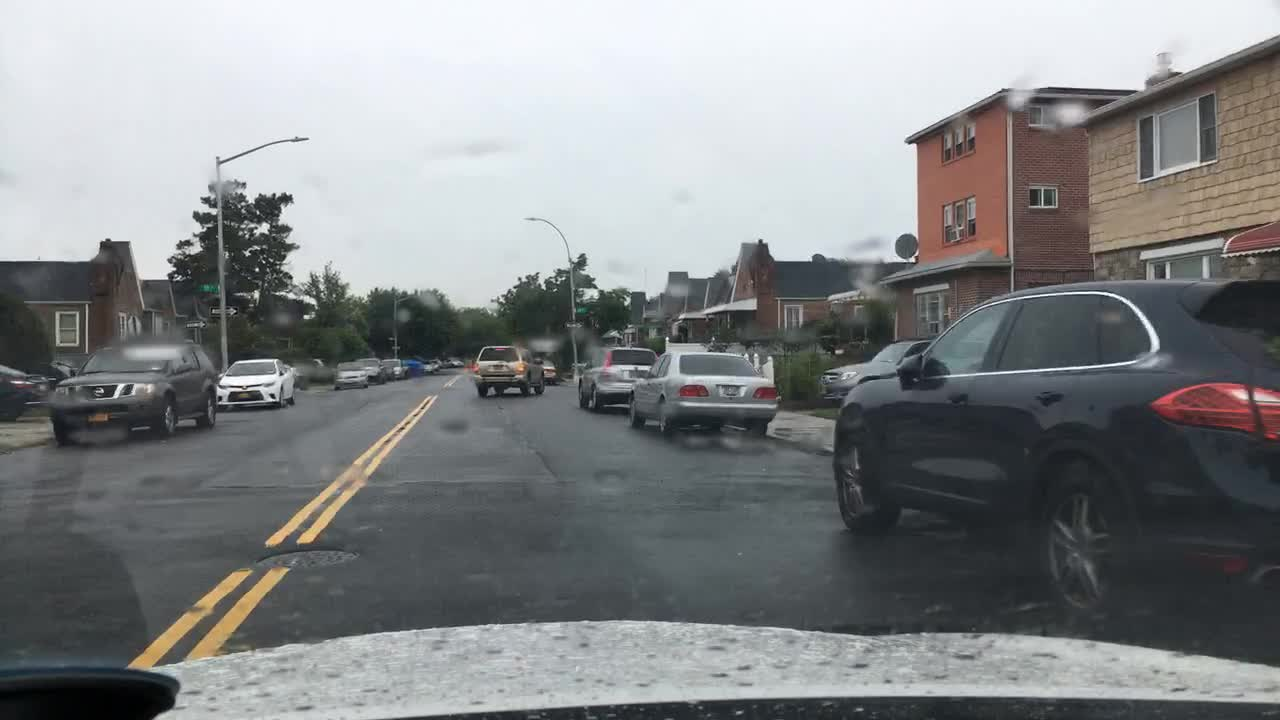car: (830, 273, 1277, 627), (45, 338, 219, 449), (627, 349, 778, 442), (815, 335, 936, 406), (577, 344, 660, 414), (213, 357, 297, 412), (471, 343, 545, 399), (0, 364, 28, 427), (27, 362, 76, 389), (334, 361, 370, 391), (352, 356, 387, 385), (304, 355, 333, 383), (531, 356, 558, 386), (380, 358, 408, 379), (441, 356, 466, 369), (422, 359, 431, 374), (432, 359, 442, 371)
traffic sign: (209, 304, 234, 318), (183, 319, 206, 330), (562, 319, 583, 328), (198, 283, 218, 292), (574, 304, 588, 315)
